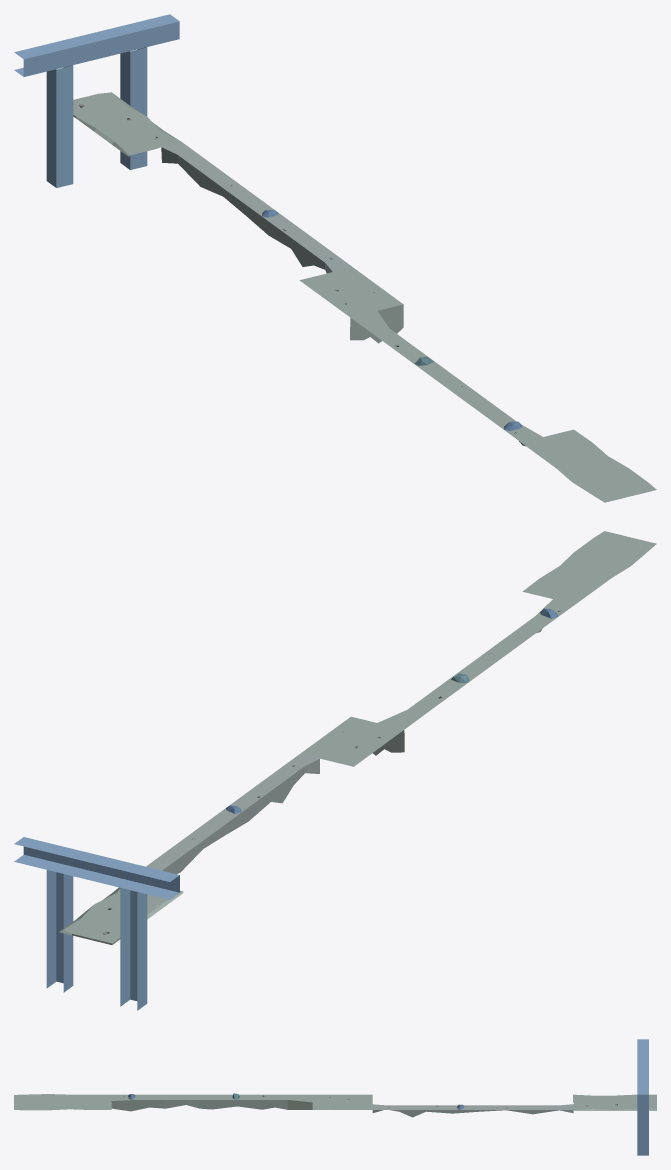
Rendered from obstacle1.0.fbx.
3 renders of one model, top to bottom at view 1: azimuth 30°, elevation 25°; view 2: azimuth 150°, elevation 25°; view 3: azimuth 270°, elevation 25°, orthographic. The views are drawn at different scales.
Visible parts, largest first — view 1: Камни 3, Cube.004; view 2: Камни 3, Cube.004; view 3: Камни 3, Cube.004.
Boxes of the visible parts, <box> form: Камни 3: <box>73,92,656,502</box>; Cube.004: <box>14,14,179,187</box>; Камни 3: <box>59,531,656,944</box>; Cube.004: <box>14,837,179,1010</box>; Камни 3: <box>14,1094,656,1117</box>; Cube.004: <box>637,1039,648,1155</box>.
Bounding box in the file's own units: 41261 × 34538 × 249904.
